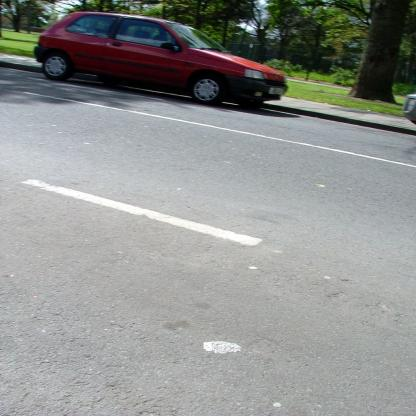Car: (34, 10, 289, 105)
